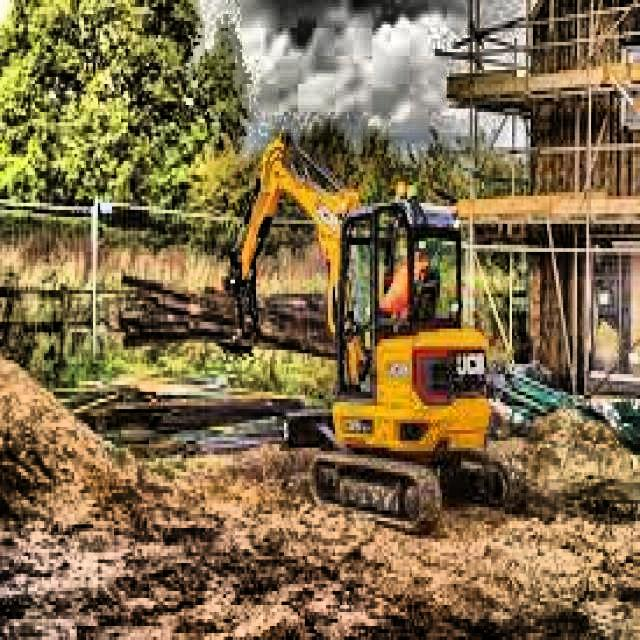bull_dozer/loader/grader: (216, 129, 517, 530)
person: (371, 235, 432, 319)
